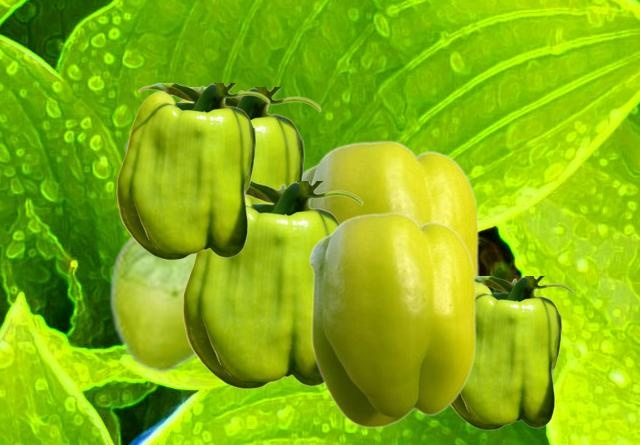bell_pepper: (182, 181, 362, 388), (308, 211, 475, 427), (116, 83, 269, 259), (303, 139, 478, 275), (108, 135, 198, 373), (450, 276, 573, 429), (179, 87, 320, 202)
